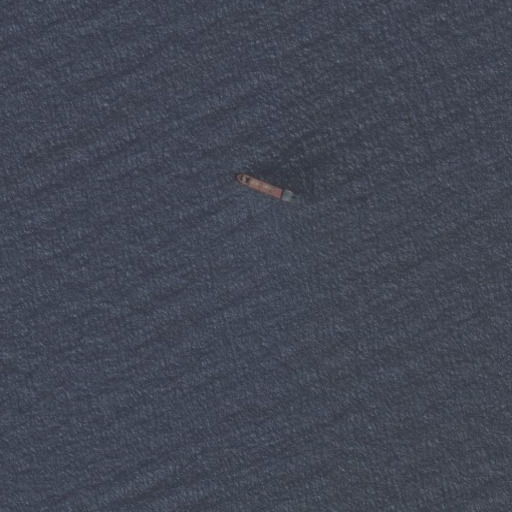ship: (235, 171, 304, 210)
